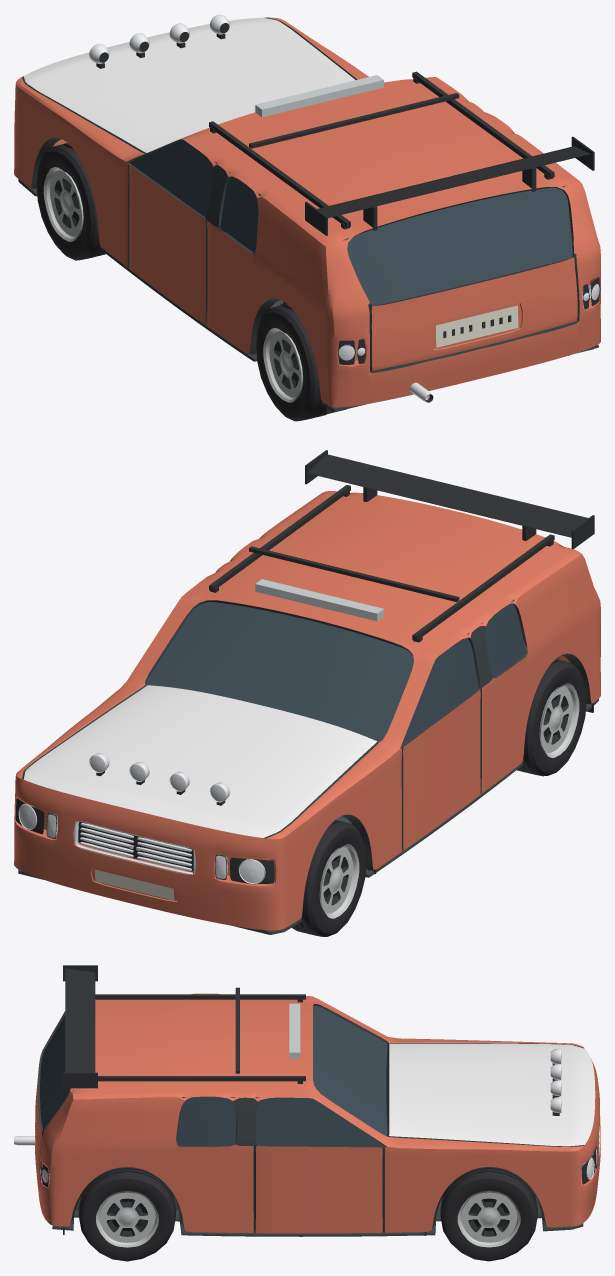
File: forge_closed_rally_lod1.fbx
The picture shows the model from 3 angles, top to bottom: view 1: azimuth 30°, elevation 25°; view 2: azimuth 150°, elevation 25°; view 3: azimuth 270°, elevation 25°; orthographic projection. The views are drawn at different scales.
Parts seen in each view (by area): view 1: Body, Wheel_RL_Mesh, Wheel_FL_Mesh; view 2: Body, Wheel_FL_Mesh, Wheel_RL_Mesh; view 3: Body, Wheel_FR_Mesh, Wheel_RR_Mesh.
Part boxes in pixels (x1,y1,x2,y2): Body: [14, 14, 600, 414]; Wheel_RL_Mesh: [256, 304, 326, 421]; Wheel_FL_Mesh: [36, 143, 105, 260]; Body: [14, 450, 600, 934]; Wheel_FL_Mesh: [292, 820, 366, 936]; Wheel_RL_Mesh: [517, 659, 586, 776]; Body: [14, 965, 600, 1236]; Wheel_FR_Mesh: [440, 1167, 537, 1261]; Wheel_RR_Mesh: [78, 1167, 175, 1261].
Bounding box in the file's own units: 160 × 125 × 354.
